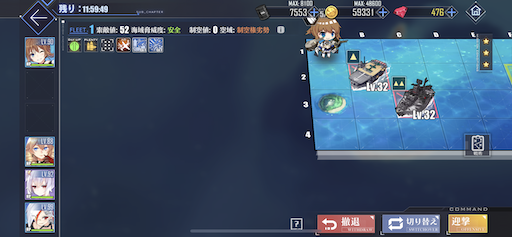lv1: (346, 49, 390, 88)
lv2: (393, 76, 436, 117)
